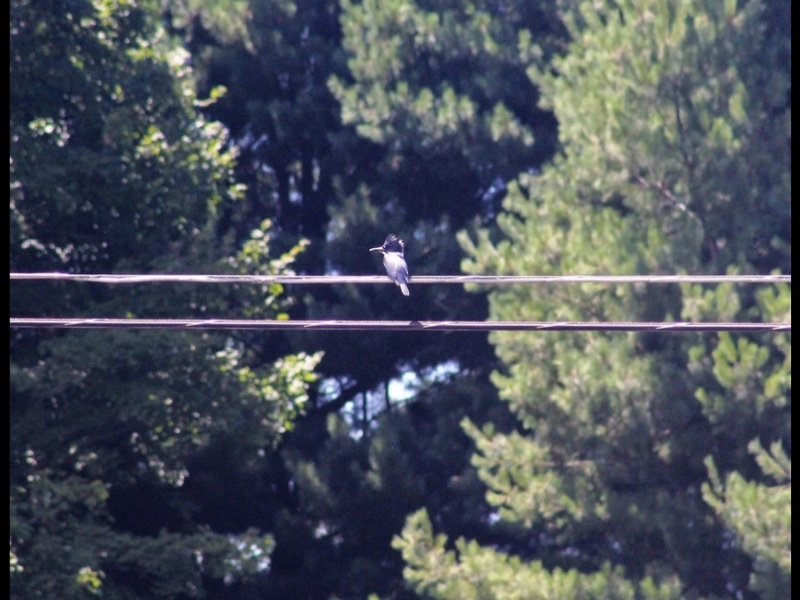kingfisher: (367, 232, 415, 300)
